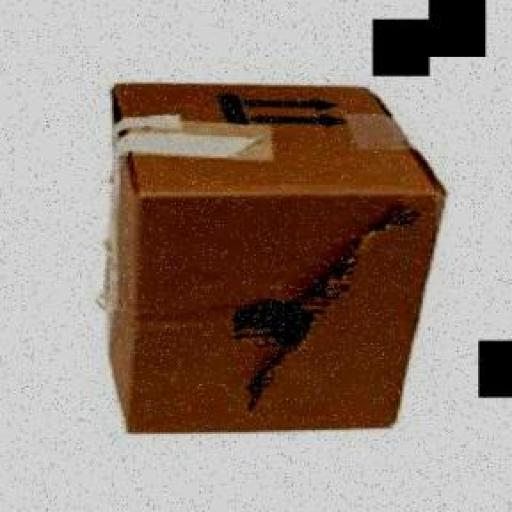box: (100, 77, 436, 439)
